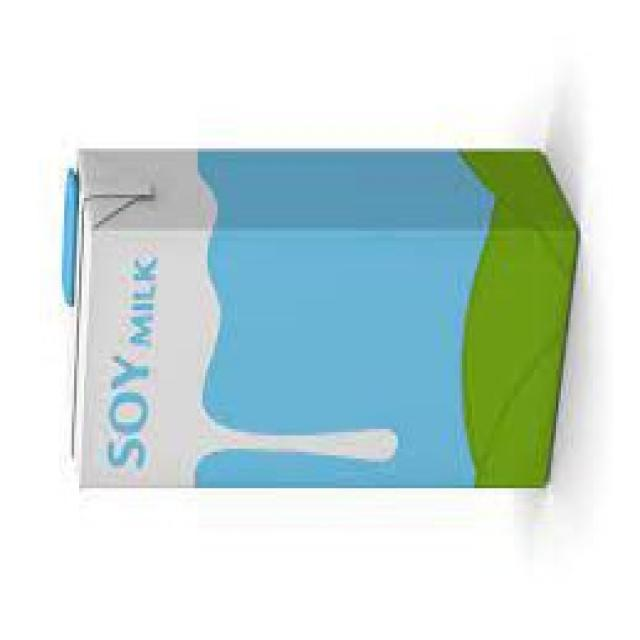non_white_jug: (58, 144, 579, 491)
